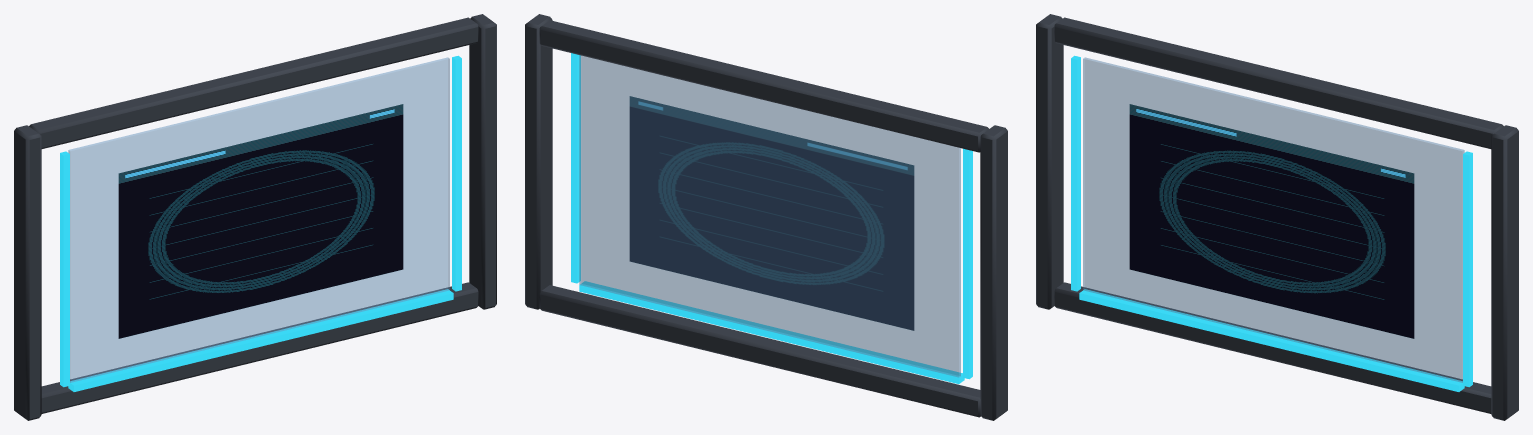
File: display_holo_frame_panel.glb
The picture shows the model from 3 angles, left to right: view 1: azimuth 30°, elevation 25°; view 2: azimuth 150°, elevation 25°; view 3: azimuth 330°, elevation 25°; orthographic projection.
Visible parts, largest first — view 1: display_holo_frame_panel; view 2: display_holo_frame_panel; view 3: display_holo_frame_panel.
Part boxes in pixels (bbox=[...]): display_holo_frame_panel: bbox=[14, 14, 496, 420]; display_holo_frame_panel: bbox=[525, 14, 1007, 420]; display_holo_frame_panel: bbox=[1036, 14, 1518, 420].
Size of the model in its own units: 1.49 by 0.86 by 0.085.
4 materials, 1 textured.
